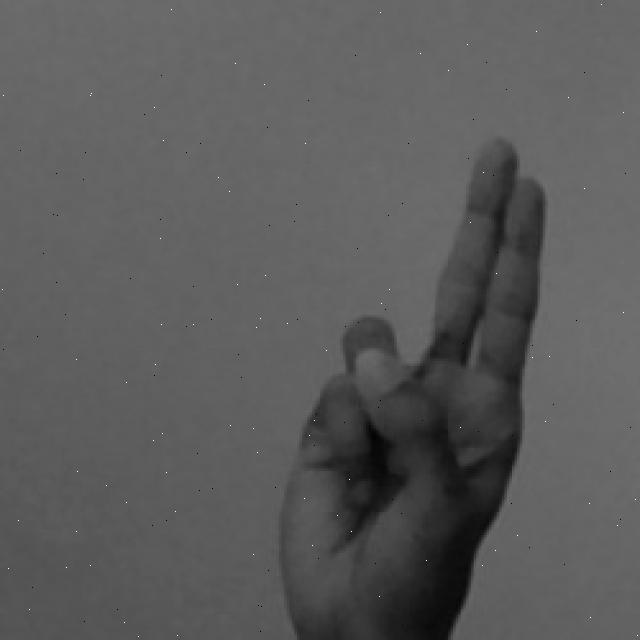U: (261, 128, 551, 640)
